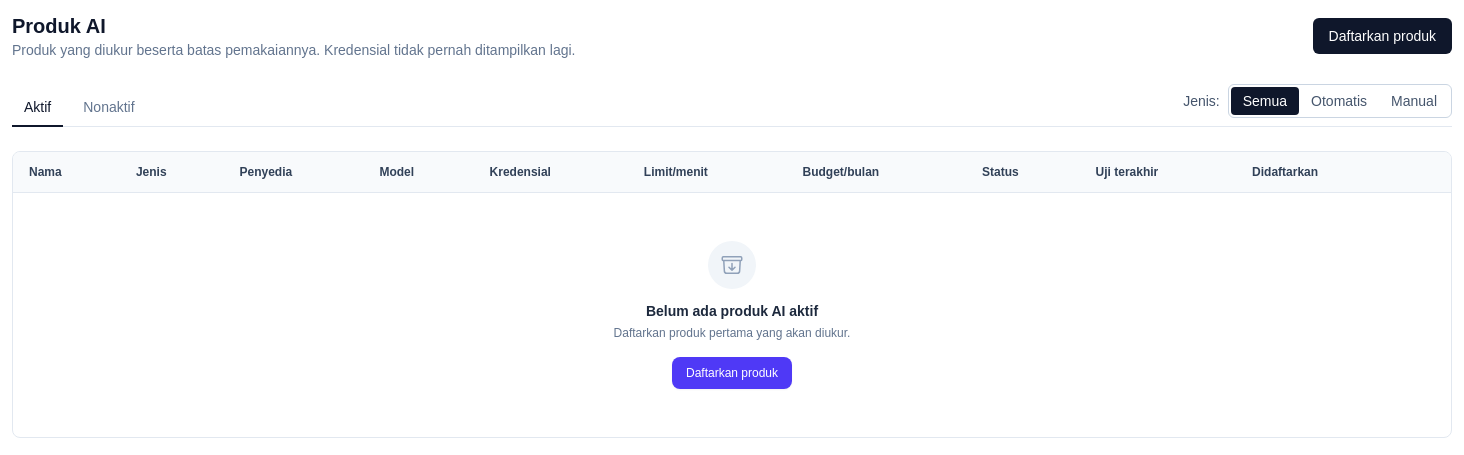
Test case: ProvidersPage type filter and columns (PBI-23 AC6) › names the type when Otomatis on Nonaktif is empty
Check: the heading "Belum ada produk AI aktif" is shown, box x1=646 y1=301 x2=818 y2=321
Click the button "Otomatis" at [1339, 101], box x1=1299 y1=87 x2=1379 y2=115
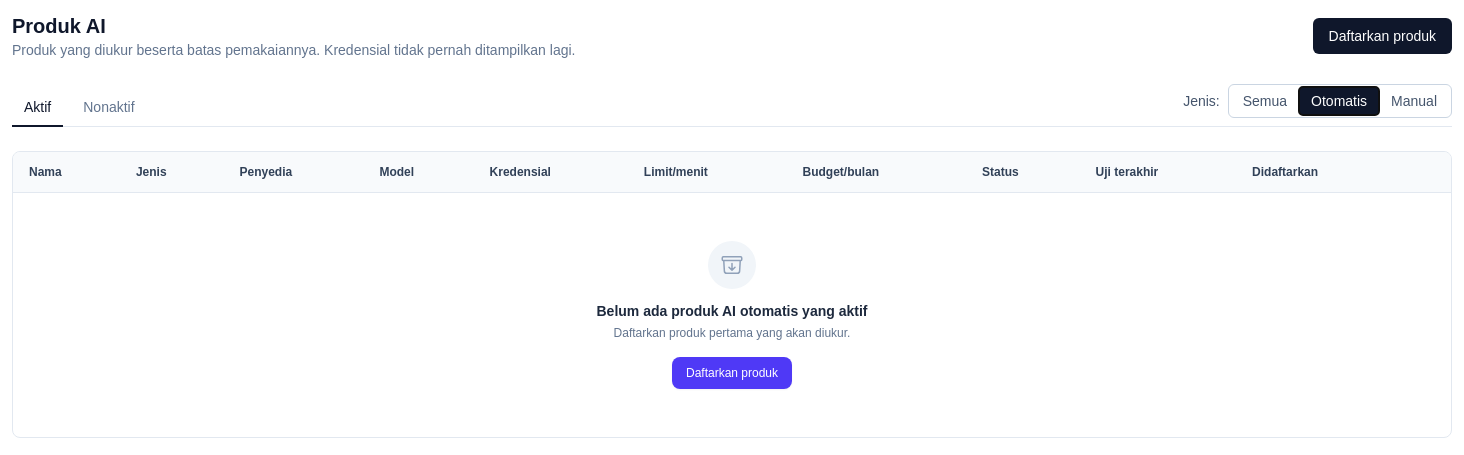
Click the tab "Nonaktif" at [109, 108], box x1=71 y1=89 x2=147 y2=127
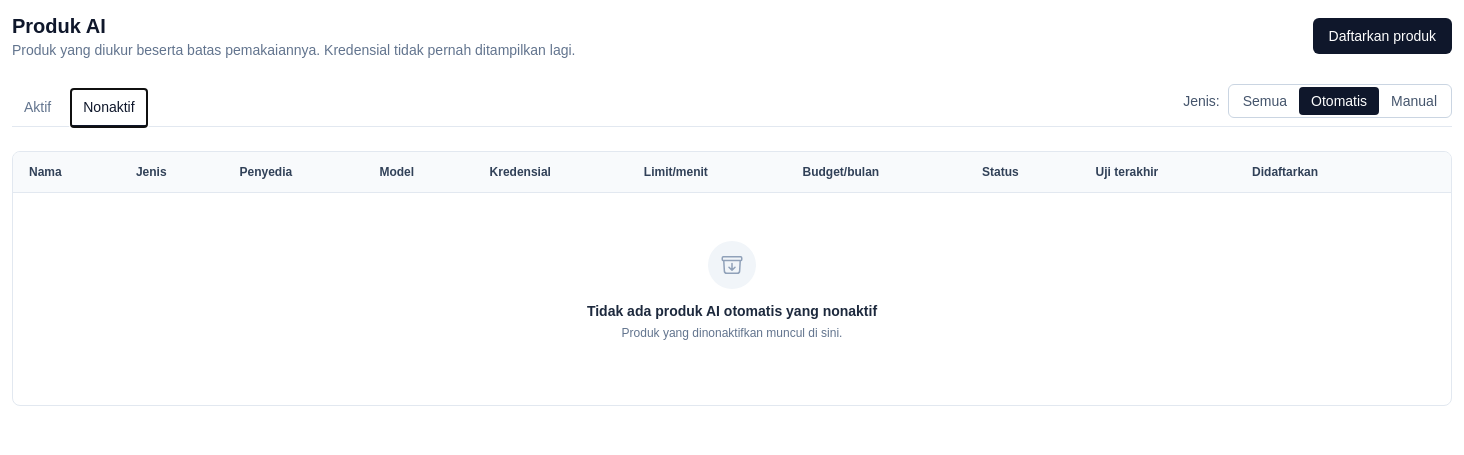
Check: the heading "Tidak ada produk AI otomatis yang nonaktif" is shown, box x1=587 y1=301 x2=877 y2=321
